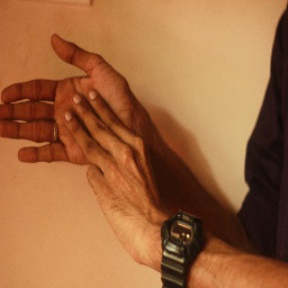M: (1, 30, 161, 218)
